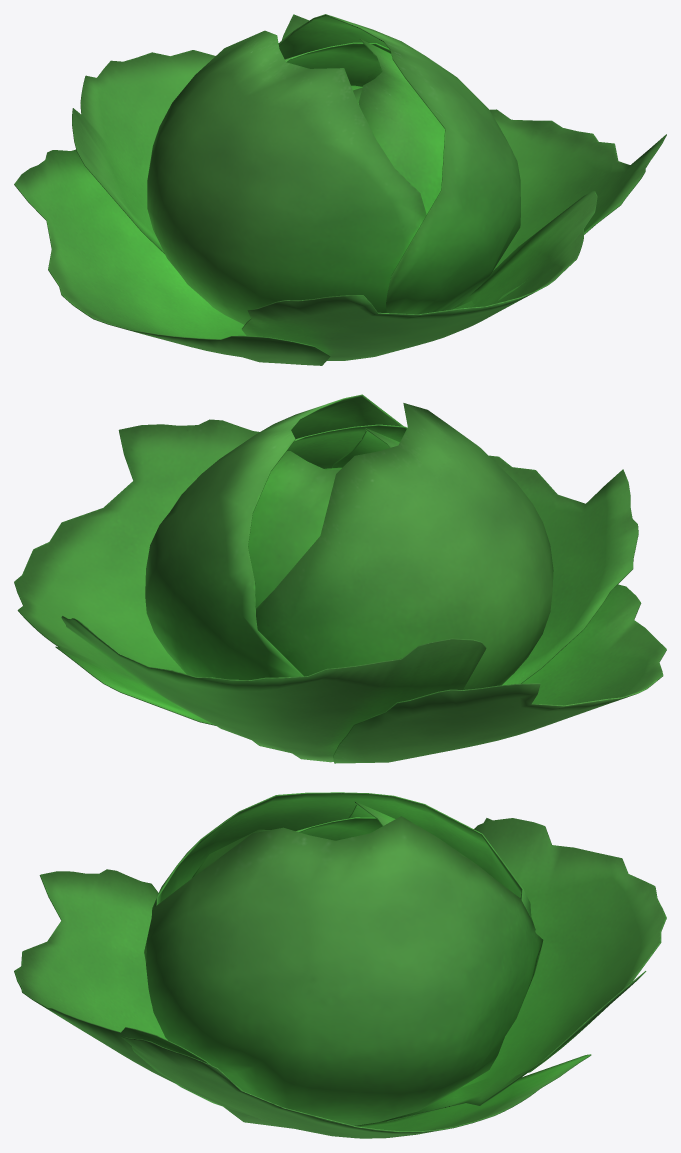
File: cabbage.fbx
3 views of the same model, one above another, from view 1: azimuth 30°, elevation 25°; view 2: azimuth 150°, elevation 25°; view 3: azimuth 270°, elevation 25° (orthographic). The views are drawn at different scales.
Visible parts, largest first — view 1: cabbage; view 2: cabbage; view 3: cabbage.
Part boxes in pixels (box(x1,y1,x2,y2)): cabbage: box(14, 14, 666, 365); cabbage: box(14, 394, 666, 763); cabbage: box(14, 792, 666, 1138).
Size of the model in its own units: 5.53 by 2.78 by 5.43.
